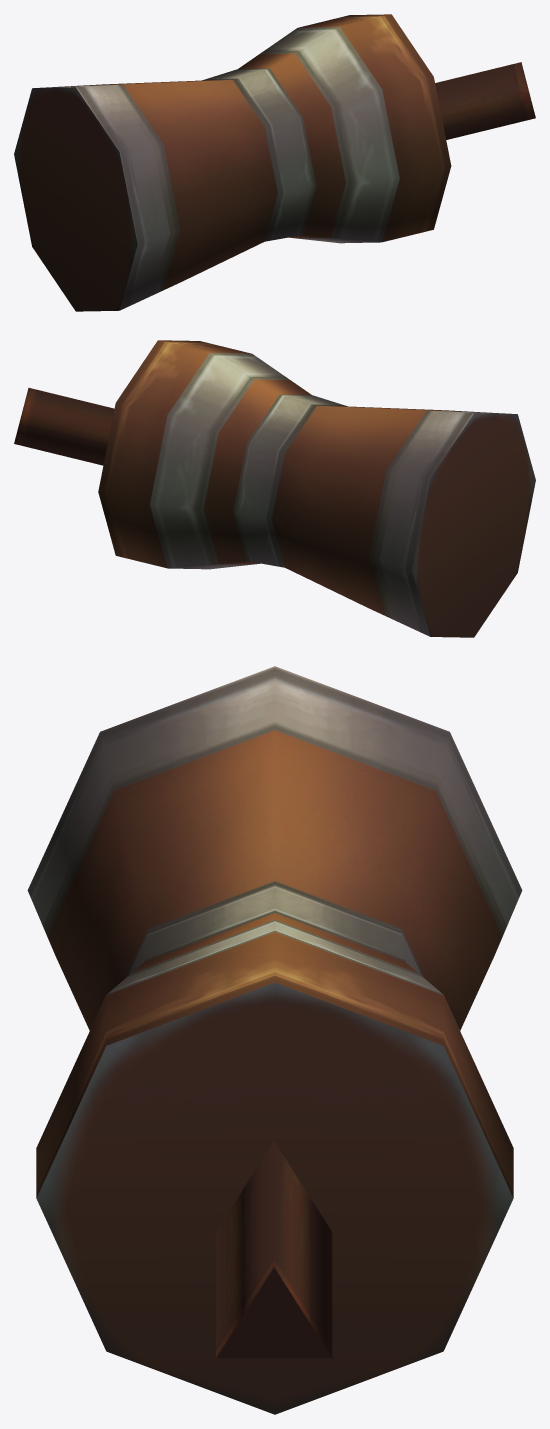
The model's file is shoulei.FBX.
The picture shows the model from 3 angles, top to bottom: view 1: azimuth 30°, elevation 25°; view 2: azimuth 150°, elevation 25°; view 3: azimuth 270°, elevation 25°; orthographic projection. The views are drawn at different scales.
Visible parts, largest first — view 1: shoulei1; view 2: shoulei1; view 3: shoulei1.
Boxes of the visible parts, x1,y1,x2,y2 form: shoulei1: (14,14,535,311); shoulei1: (14,340,535,637); shoulei1: (27,666,522,1414).
Bounding box in the file's own units: 43.57 × 20.96 × 20.96.
Materials: 1 (1 with a texture image).
